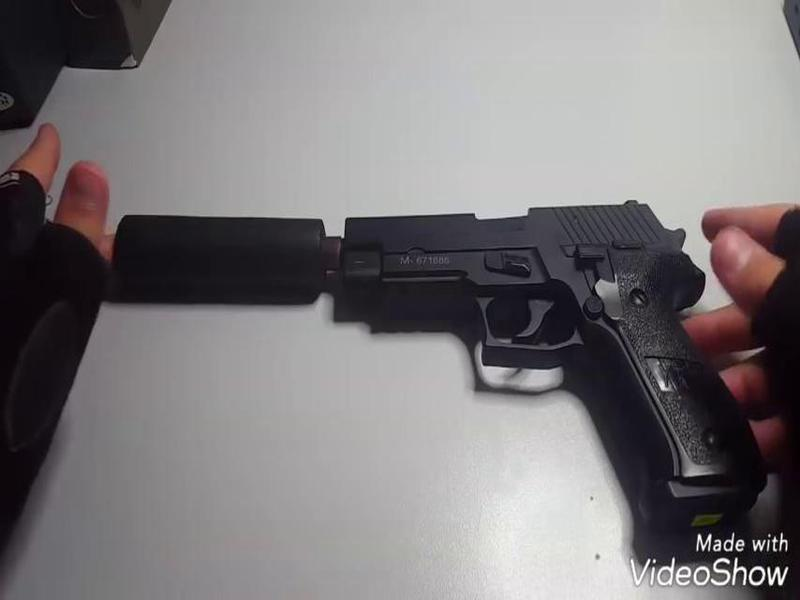Pistola: (332, 200, 766, 518)
